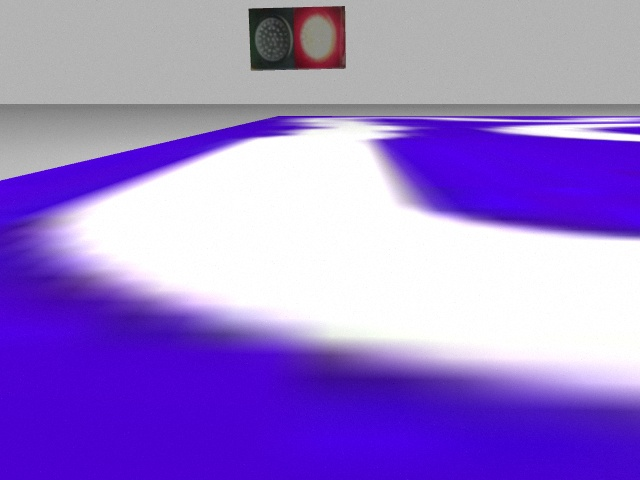red: (294, 9, 346, 69)
